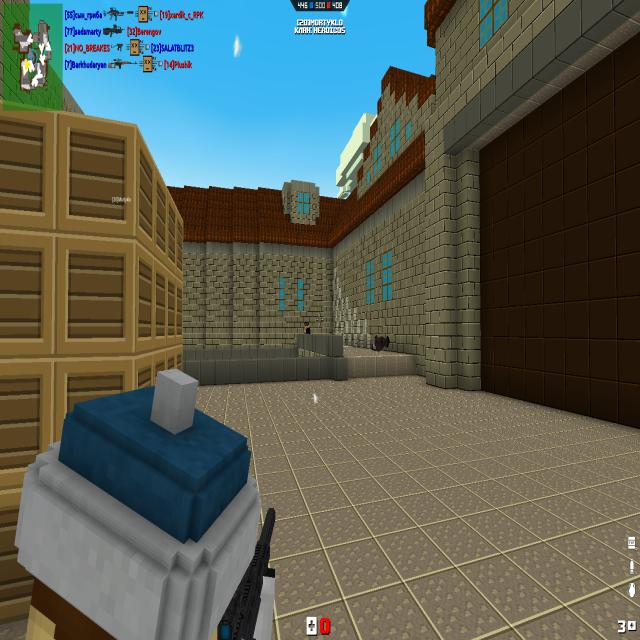player: (371, 335, 390, 352), (304, 321, 310, 334)
